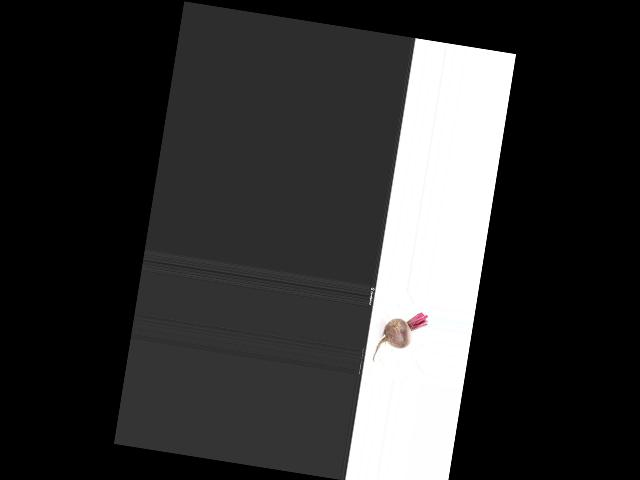beet: (372, 306, 428, 369)
